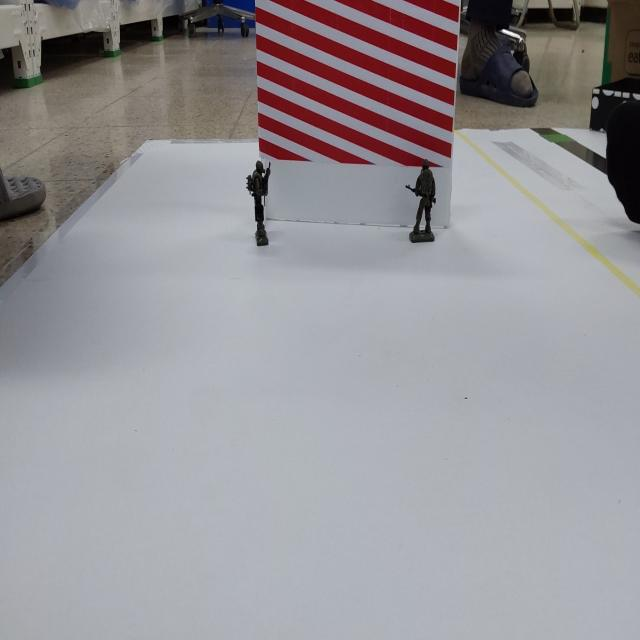enem: (406, 159, 436, 243), (246, 160, 270, 246)
